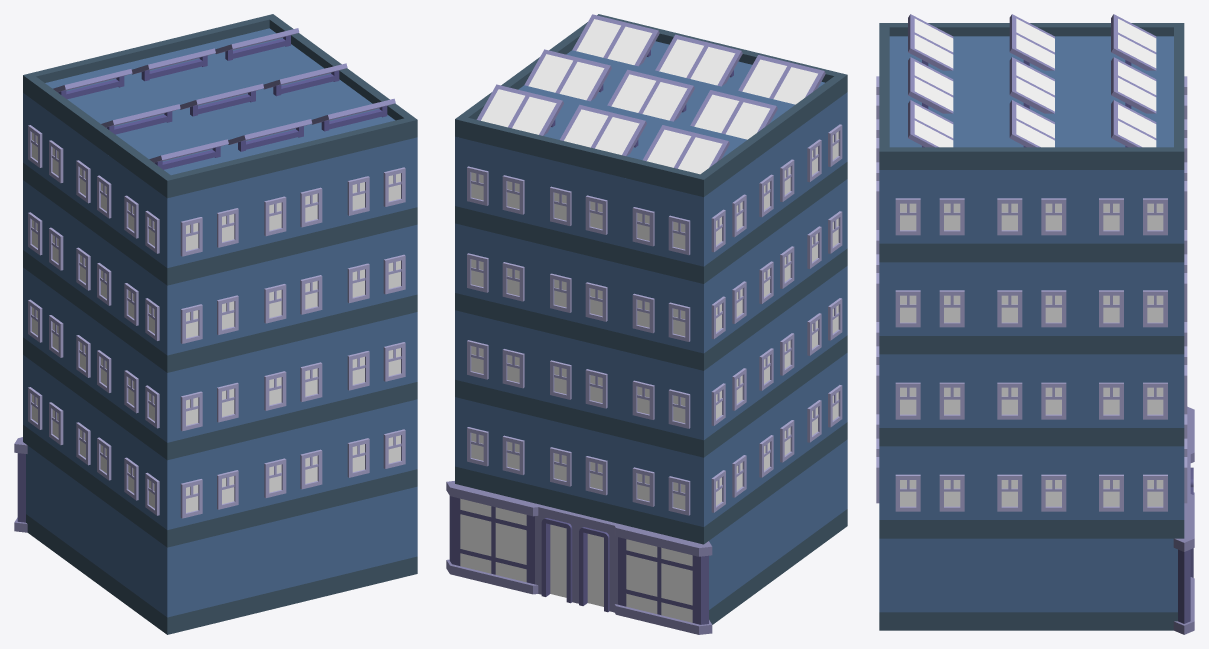
Rendered from TallBuilding.glb.
3 views of the same model, side by side, from view 1: azimuth 30°, elevation 25°; view 2: azimuth 150°, elevation 25°; view 3: azimuth 270°, elevation 25° (orthographic). The views are drawn at different scales.
Parts seen in each view (by area): view 1: mergedBlocks(Clone); view 2: mergedBlocks(Clone); view 3: mergedBlocks(Clone).
Boxes of the visible parts, x1,y1,x2,y2 form: mergedBlocks(Clone): [14, 14, 417, 634]; mergedBlocks(Clone): [446, 14, 847, 634]; mergedBlocks(Clone): [876, 14, 1194, 634].
Bounding box in the file's own units: 3.2 × 5.34 × 3.13.
